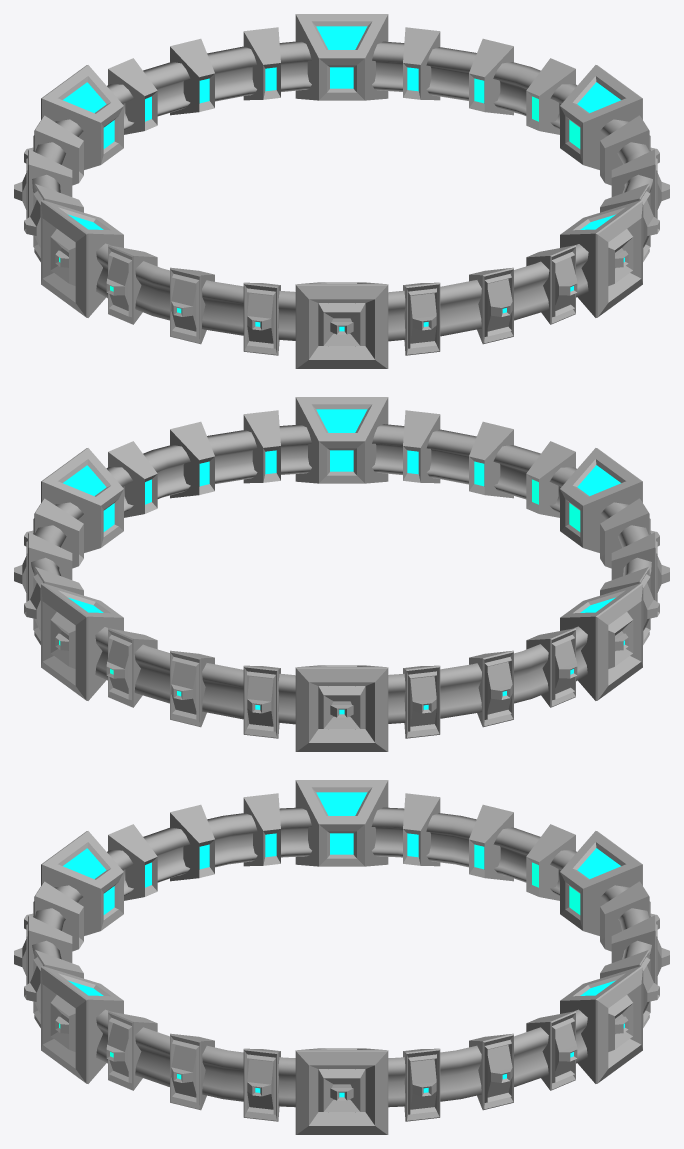
File: Checkpoint Ring.fbx
3 views of the same model, one above another, from view 1: azimuth 30°, elevation 25°; view 2: azimuth 150°, elevation 25°; view 3: azimuth 270°, elevation 25° (orthographic).
Parts seen in each view (by area): view 1: stones, keystone, ring; view 2: stones, keystone, ring; view 3: stones, keystone, ring.
Boxes of the visible parts, bbox=[...] form: stones: bbox=[14, 27, 669, 355]; keystone: bbox=[41, 14, 642, 368]; ring: bbox=[32, 41, 652, 341]; stones: bbox=[14, 410, 669, 738]; keystone: bbox=[41, 397, 642, 751]; ring: bbox=[31, 424, 651, 724]; stones: bbox=[14, 793, 669, 1121]; keystone: bbox=[41, 780, 642, 1134]; ring: bbox=[32, 807, 651, 1107].
Bounding box in the file's own units: 2209 × 314 × 2209.
